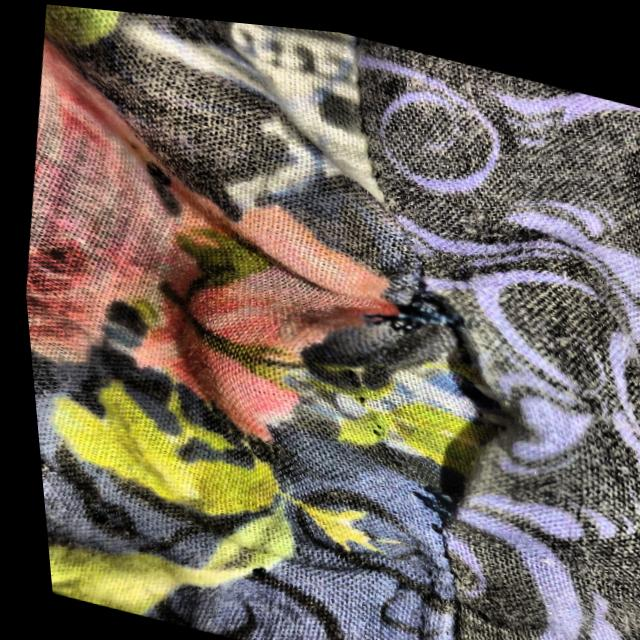seam: (261, 220, 562, 559)
